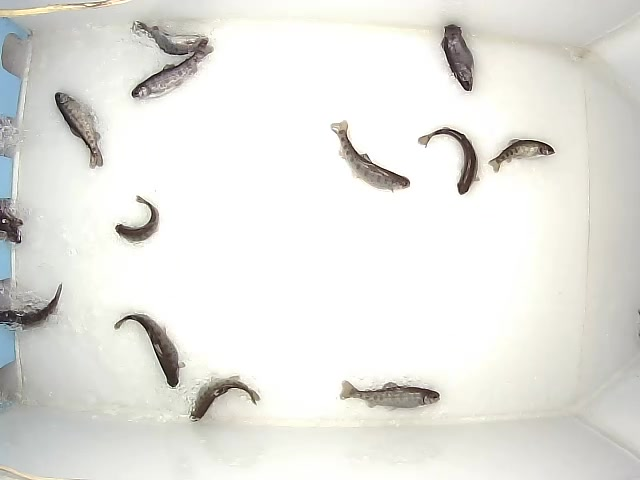fish: (329, 115, 413, 192), (112, 312, 187, 388), (418, 125, 481, 194), (129, 47, 211, 100), (54, 90, 107, 170), (188, 373, 261, 424), (339, 376, 443, 410), (131, 21, 212, 56), (486, 136, 555, 173), (439, 24, 476, 92), (113, 194, 161, 244)
